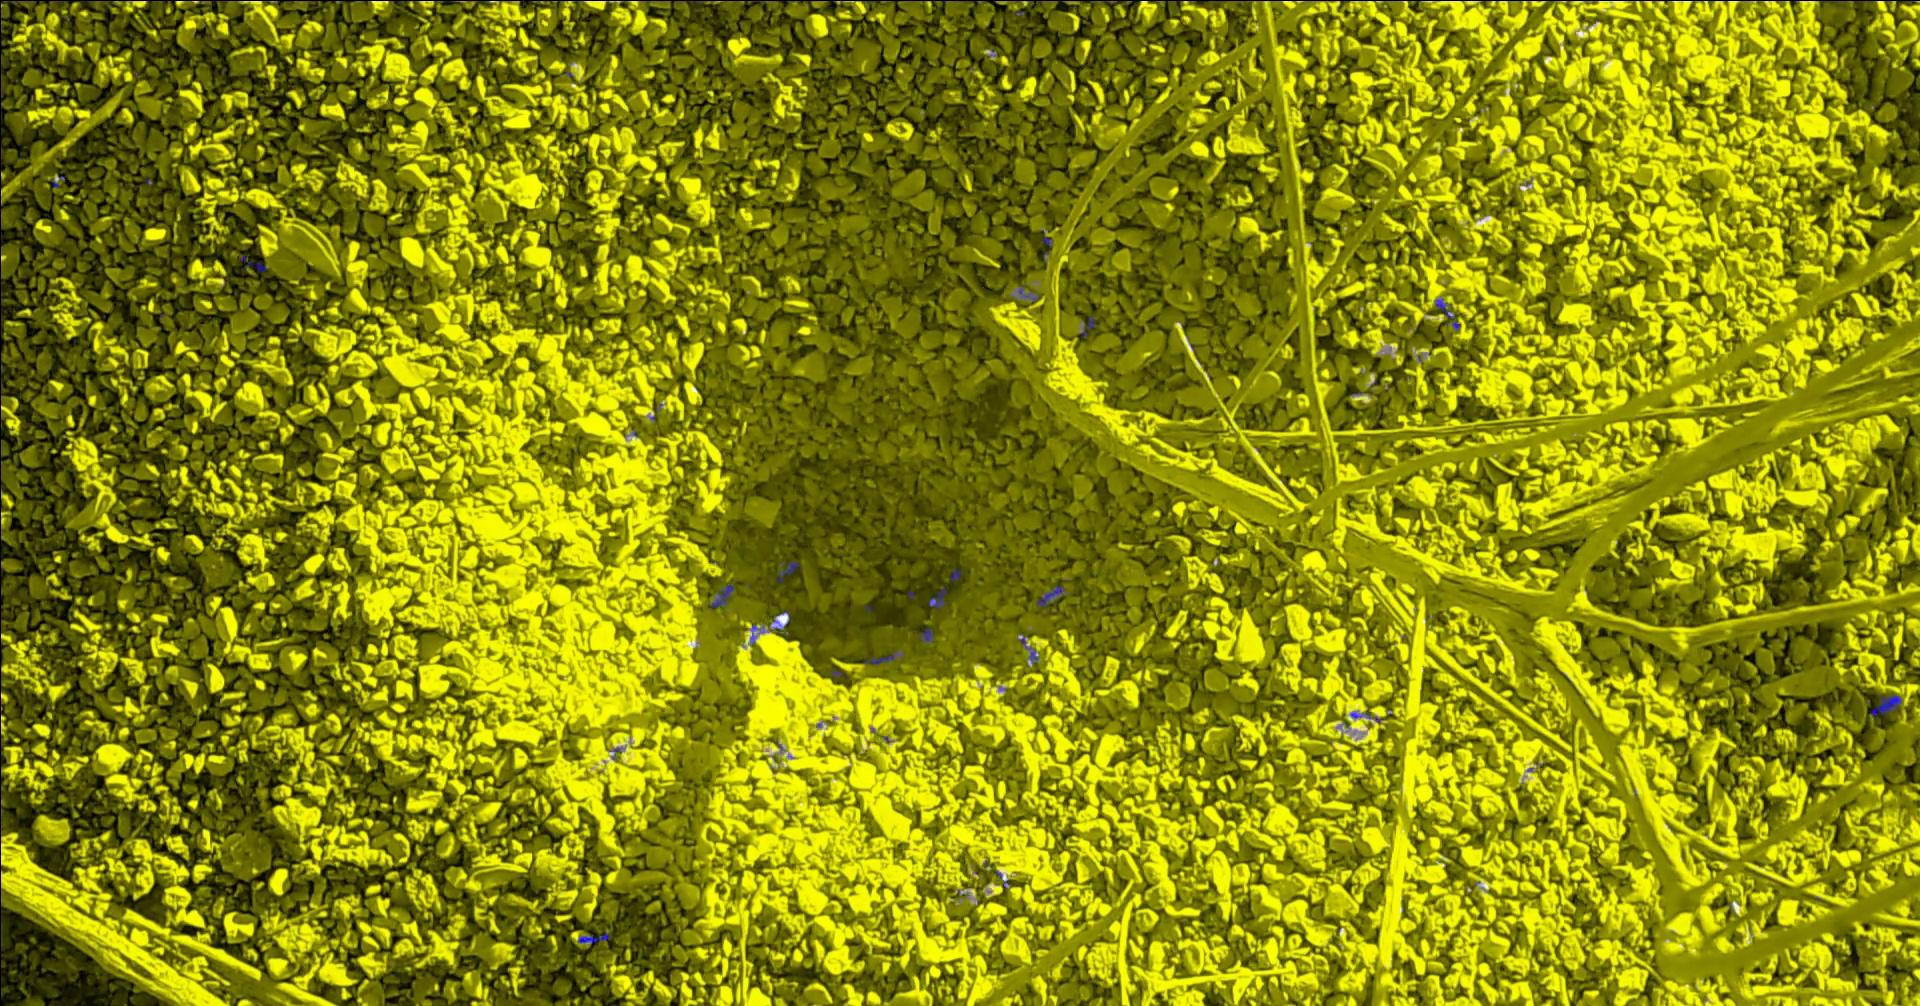ant: (1434, 298, 1459, 330), (1870, 694, 1901, 716), (1035, 586, 1065, 607), (711, 583, 733, 607), (777, 561, 801, 582), (863, 650, 898, 664), (240, 255, 267, 271), (927, 586, 945, 608), (577, 931, 608, 942), (1017, 285, 1037, 302), (1079, 316, 1095, 338), (917, 627, 933, 643), (930, 0, 985, 1)
